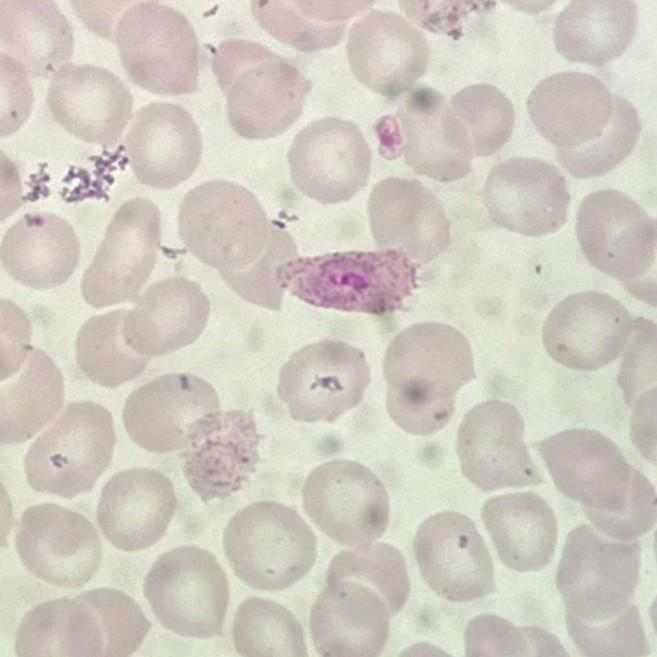Infected: (277, 248, 418, 313), (183, 410, 263, 497)
Uninfected: (526, 70, 639, 178), (535, 427, 652, 523), (83, 197, 165, 309), (22, 403, 115, 499), (14, 589, 144, 656), (113, 2, 203, 97), (221, 502, 315, 590), (142, 545, 230, 639), (555, 525, 642, 620), (386, 92, 477, 181), (276, 338, 369, 425), (176, 183, 271, 268), (123, 372, 220, 455), (573, 188, 656, 285), (299, 459, 389, 548), (455, 401, 541, 493), (410, 509, 495, 600), (117, 275, 208, 358), (14, 502, 102, 586), (286, 116, 369, 204), (543, 291, 633, 371), (480, 157, 570, 236), (344, 12, 428, 96), (369, 179, 452, 264), (119, 104, 202, 189), (47, 63, 132, 144), (386, 322, 479, 396), (224, 60, 310, 140), (94, 468, 176, 551), (318, 543, 404, 621), (74, 307, 157, 387), (219, 224, 293, 311), (307, 582, 392, 657), (1, 212, 80, 291), (251, 1, 367, 54), (479, 491, 556, 570), (2, 347, 64, 444), (383, 363, 458, 437), (553, 0, 637, 65), (446, 82, 515, 158), (1, 1, 69, 76), (229, 597, 309, 656), (326, 398, 402, 456), (614, 318, 657, 409), (67, 1, 143, 44), (372, 458, 406, 491)
